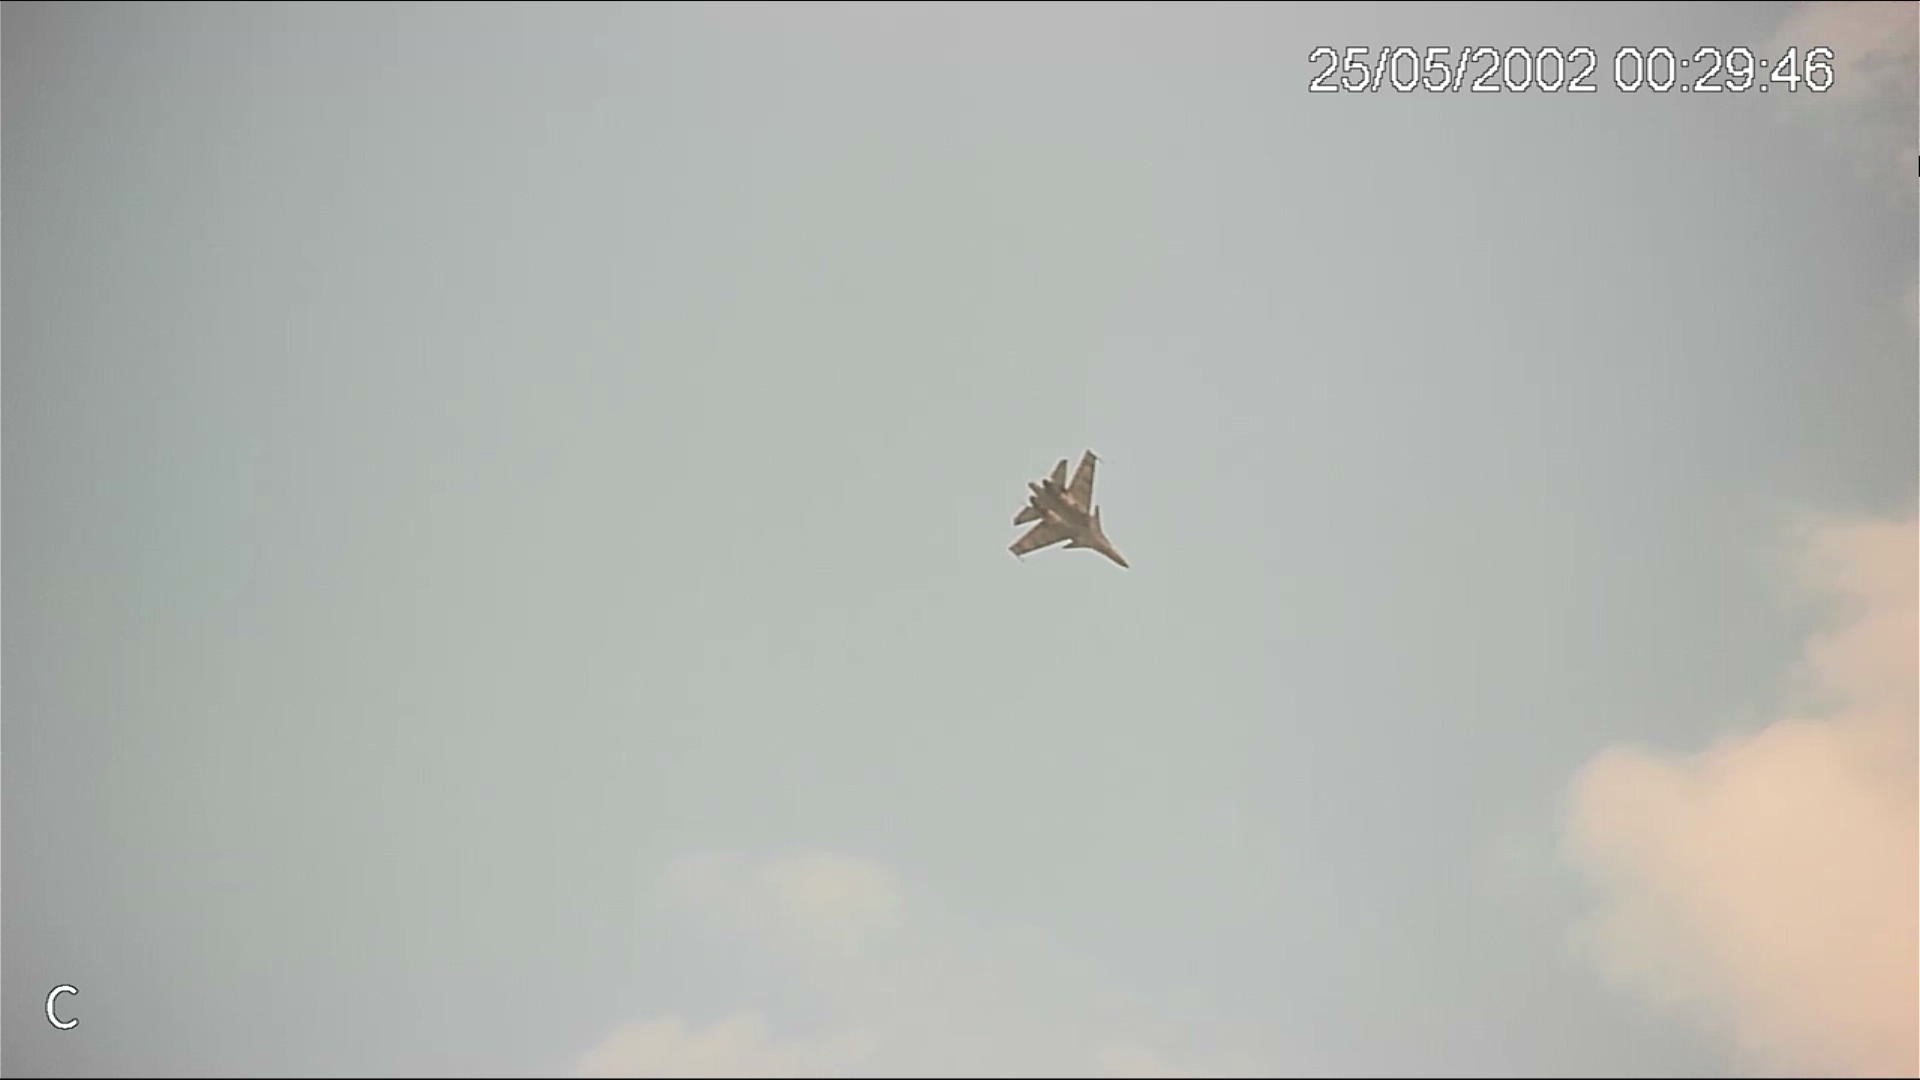SU_30: (1002, 448, 1134, 574)
